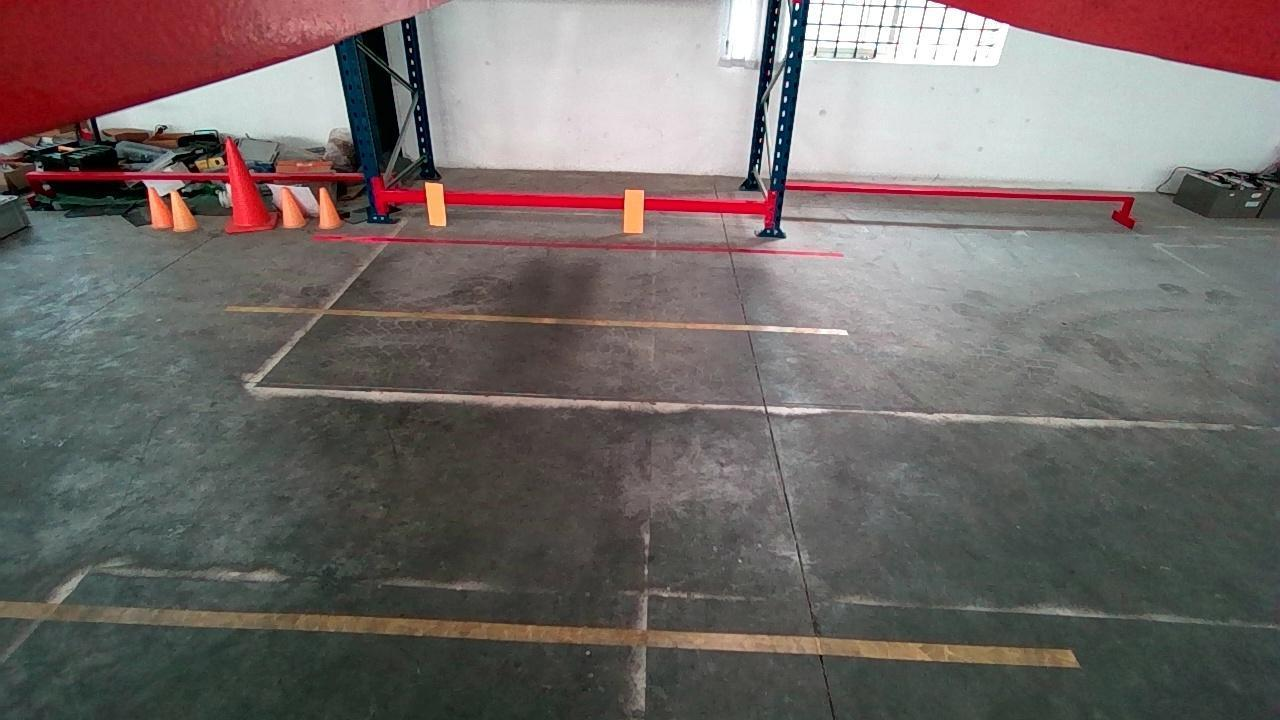h_rack: (384, 190, 766, 215)
orange_strip: (623, 187, 646, 232), (426, 182, 447, 226)
red_line: (309, 231, 843, 256)
yellow_line: (1, 600, 1077, 670), (228, 304, 848, 336)
